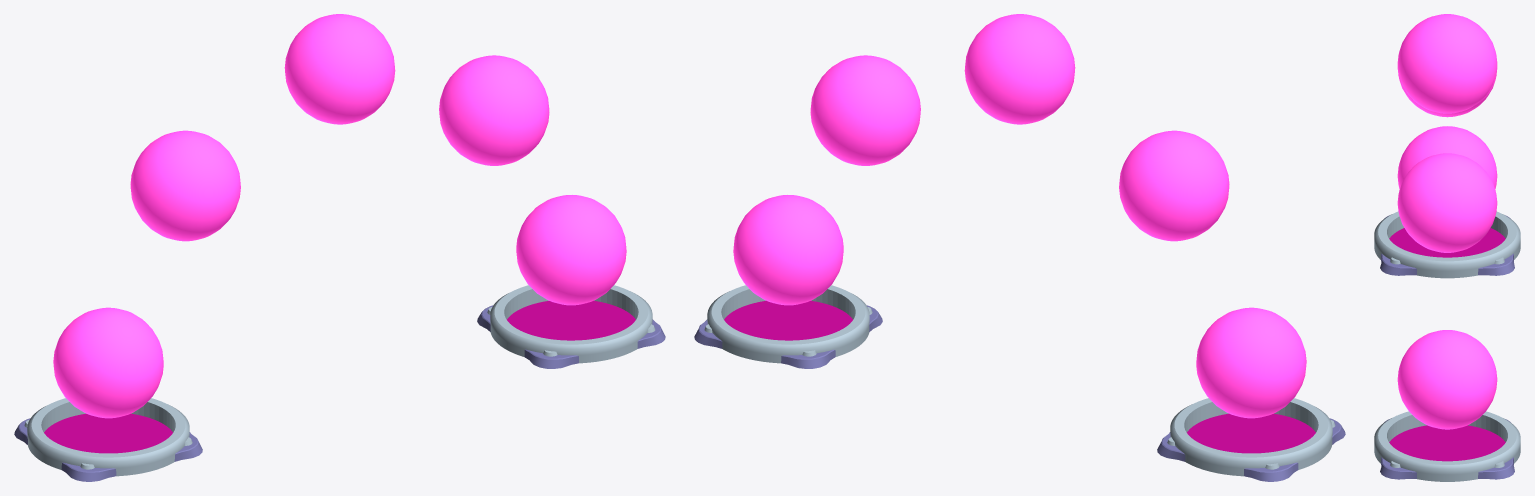
File: WackyLamp.fbx
The picture shows the model from 3 angles, left to right: view 1: azimuth 30°, elevation 25°; view 2: azimuth 150°, elevation 25°; view 3: azimuth 270°, elevation 25°; orthographic projection. The views are drawn at different scales.
Parts seen in each view (by area): view 1: moving_ball4, moving_ball2, moving_ball5, moving_ball3, moving_ball1, receiver_base, WackyLamp, corners; view 2: moving_ball4, moving_ball2, moving_ball5, moving_ball3, moving_ball1, WackyLamp, receiver_base, corners; view 3: moving_ball4, moving_ball3, moving_ball5, receiver_base, WackyLamp, moving_ball1, corners, moving_ball2, discs.
Boxes of the visible parts, box(x1,y1,x2,y2) form: moving_ball4: box(439, 55, 549, 165); moving_ball2: box(130, 130, 240, 241); moving_ball5: box(516, 195, 626, 305); moving_ball3: box(284, 14, 395, 124); moving_ball1: box(53, 307, 163, 418); receiver_base: box(490, 285, 652, 363); WackyLamp: box(27, 398, 189, 476); corners: box(14, 305, 665, 481); moving_ball4: box(810, 55, 920, 165); moving_ball2: box(1119, 130, 1229, 241); moving_ball5: box(733, 195, 843, 305); moving_ball3: box(964, 14, 1075, 124); moving_ball1: box(1196, 307, 1306, 418); WackyLamp: box(1170, 398, 1332, 476); receiver_base: box(707, 285, 869, 363); corners: box(694, 305, 1345, 481); moving_ball4: box(1397, 153, 1497, 252); moving_ball3: box(1397, 14, 1497, 113); moving_ball5: box(1397, 330, 1497, 429); receiver_base: box(1374, 411, 1520, 481); WackyLamp: box(1374, 211, 1520, 278); moving_ball1: box(1397, 126, 1497, 188); corners: box(1380, 215, 1514, 479); moving_ball2: box(1397, 66, 1497, 117); discs: box(1390, 257, 1504, 467).
Size of the model in its own units: 3.91 by 2.27 by 0.9117.
